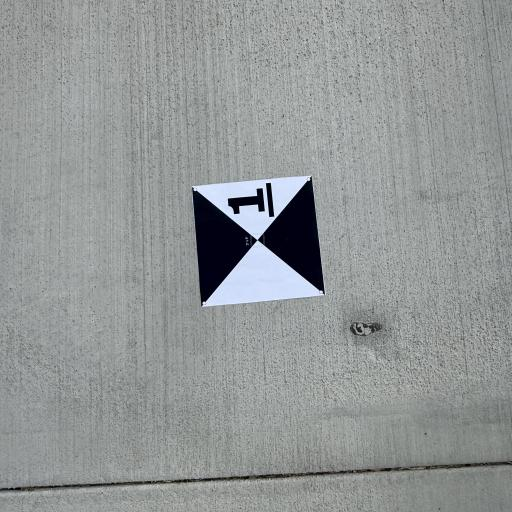target1: (184, 173, 327, 308)
